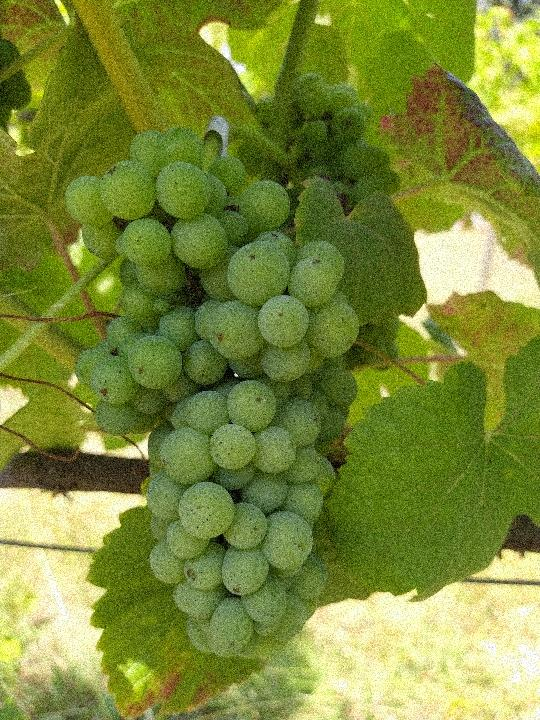grape: (67, 119, 368, 662)
